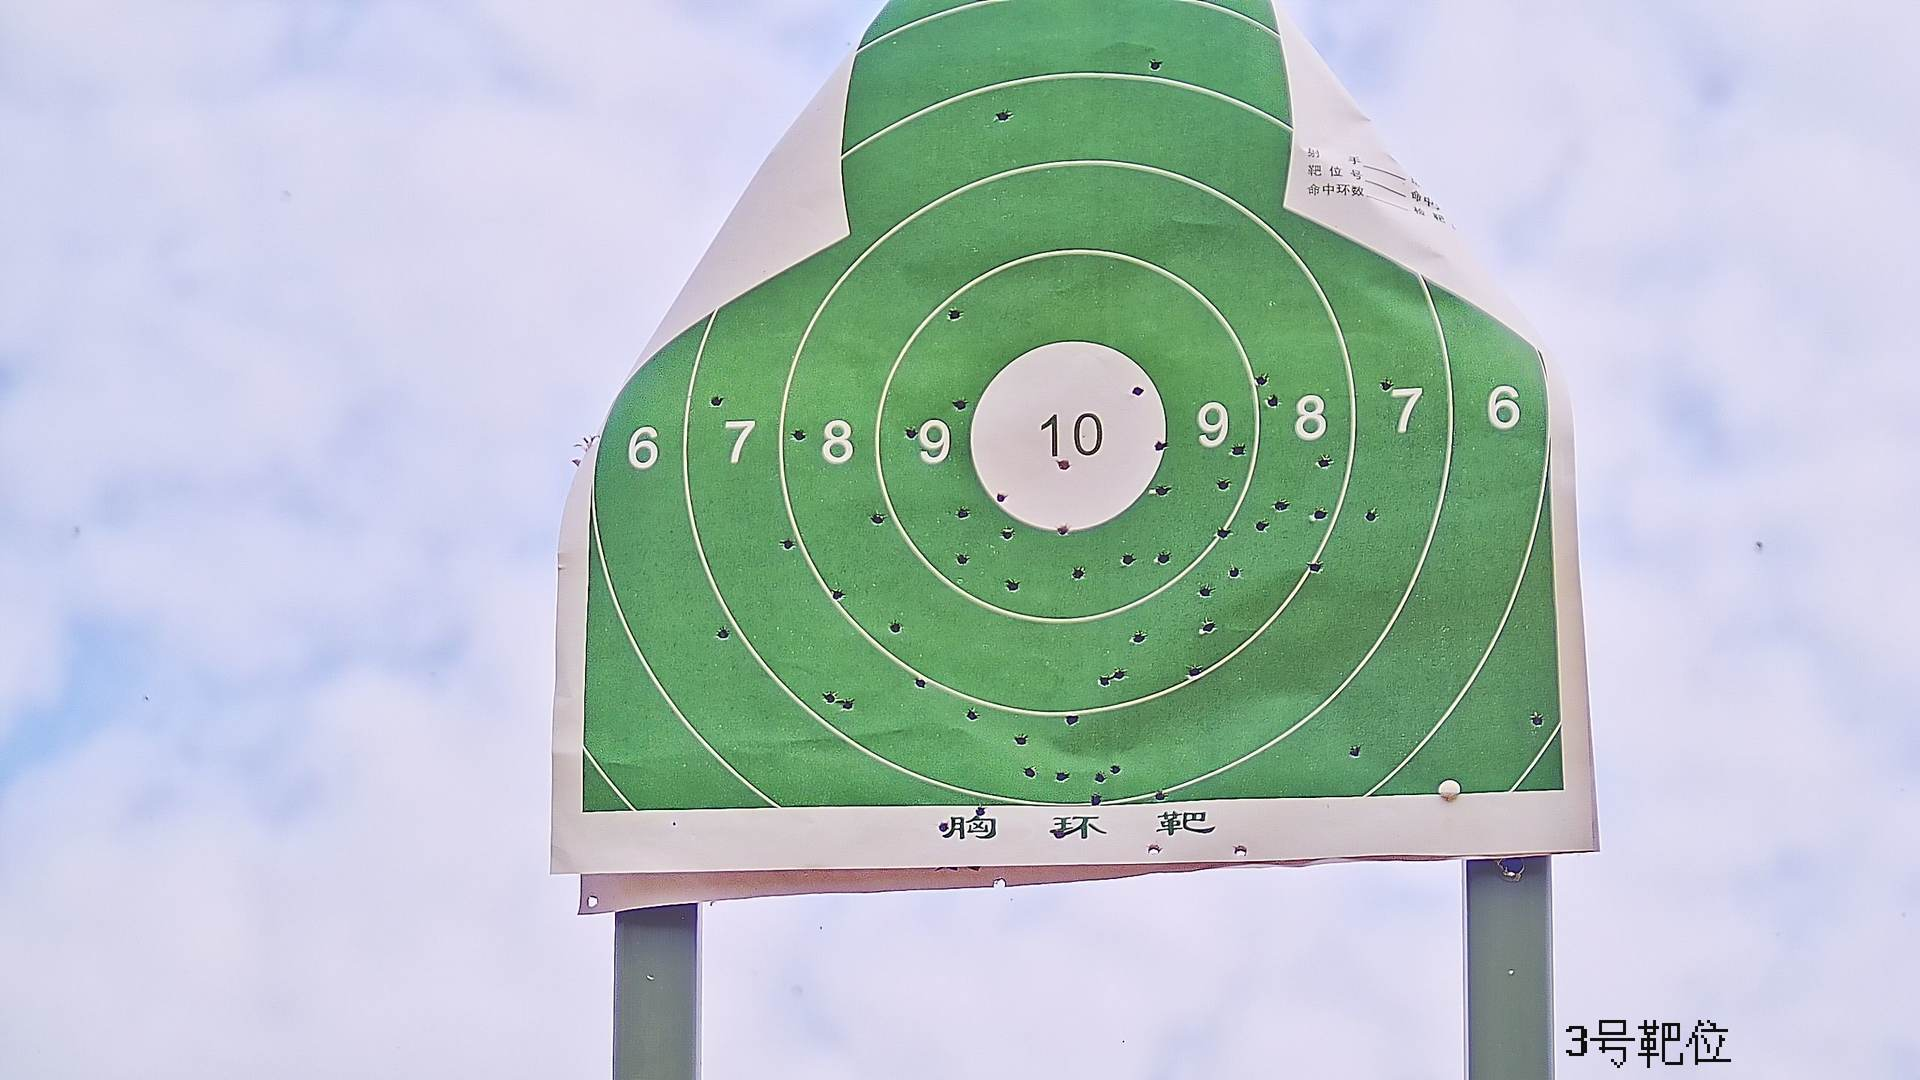hole: (1364, 506, 1378, 524), (1273, 498, 1290, 513), (1233, 845, 1251, 858), (1120, 553, 1135, 567), (952, 396, 967, 411), (887, 618, 903, 633), (841, 698, 856, 713), (1349, 742, 1362, 760), (947, 306, 961, 320), (1156, 484, 1171, 498), (822, 688, 836, 703), (1232, 443, 1247, 456), (1154, 551, 1170, 564), (1001, 526, 1014, 542), (905, 426, 920, 439), (831, 587, 847, 600), (717, 624, 731, 640), (1185, 665, 1203, 676), (781, 538, 798, 550), (1098, 671, 1109, 690), (1254, 373, 1269, 386), (1317, 455, 1331, 469), (1309, 559, 1323, 574), (1530, 712, 1543, 727), (1216, 477, 1230, 491), (1146, 843, 1160, 856), (1065, 713, 1080, 727), (956, 505, 969, 520), (956, 551, 971, 564), (1199, 622, 1215, 634), (1251, 520, 1269, 530), (1056, 769, 1067, 786), (1379, 378, 1393, 392), (1015, 733, 1029, 746), (1131, 632, 1145, 645), (1131, 385, 1145, 398), (996, 109, 1010, 121), (1265, 393, 1276, 407), (1022, 767, 1036, 779), (1154, 439, 1168, 451), (1007, 578, 1019, 592), (872, 512, 884, 526), (709, 396, 725, 406), (1313, 508, 1327, 520), (1095, 771, 1106, 785), (1072, 566, 1084, 579), (914, 676, 927, 688), (975, 804, 985, 819), (791, 429, 806, 439), (1149, 57, 1160, 69), (996, 492, 1007, 504), (1229, 566, 1240, 579), (967, 708, 977, 721), (1216, 527, 1230, 537), (1201, 585, 1211, 600), (1055, 525, 1069, 534), (1108, 764, 1120, 774), (1059, 458, 1069, 469), (1114, 666, 1124, 679), (940, 819, 948, 833), (1156, 790, 1167, 799), (1054, 829, 1064, 839), (1091, 794, 1098, 804)
target: (588, 7, 1571, 808)
ten: (971, 340, 1162, 535)
